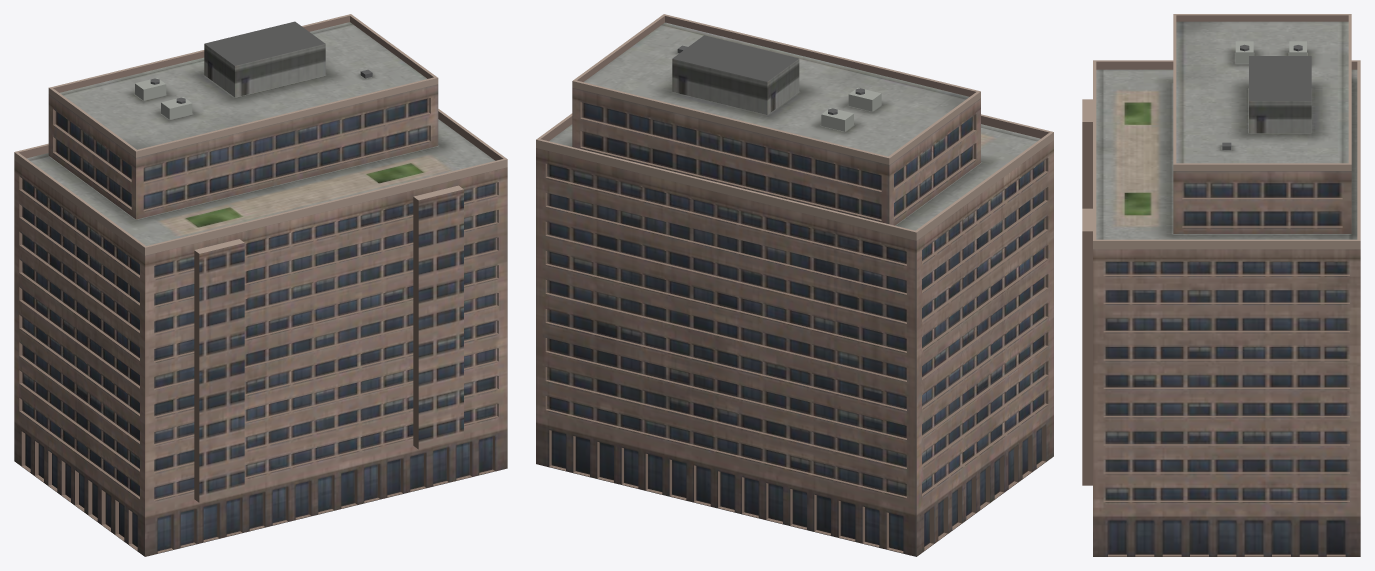
Rendered from dc_office_band_b.glb.
3 views of the same model, side by side, from view 1: azimuth 30°, elevation 25°; view 2: azimuth 150°, elevation 25°; view 3: azimuth 270°, elevation 25° (orthographic). The views are drawn at different scales.
Visible parts, largest first — view 1: dc_office_band_b; view 2: dc_office_band_b; view 3: dc_office_band_b.
Boxes of the visible parts, x1,y1,x2,y2 form: dc_office_band_b: (14,14,507,556); dc_office_band_b: (536,14,1053,556); dc_office_band_b: (1082,14,1360,556).
Bounding box in the file's own units: 48 × 49.9 × 31.2.
1 material, 1 textured.
